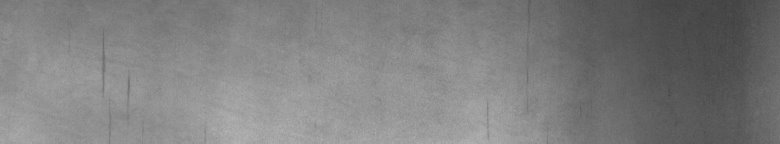ka: (97, 44, 130, 128)
